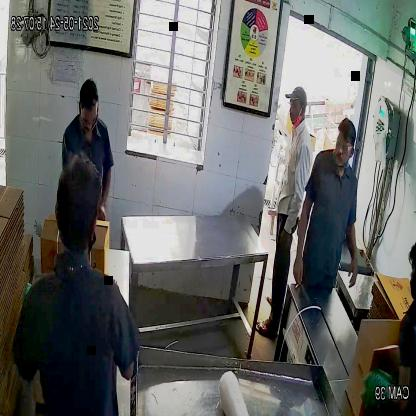goggles: (335, 136, 358, 157), (80, 109, 100, 130)
